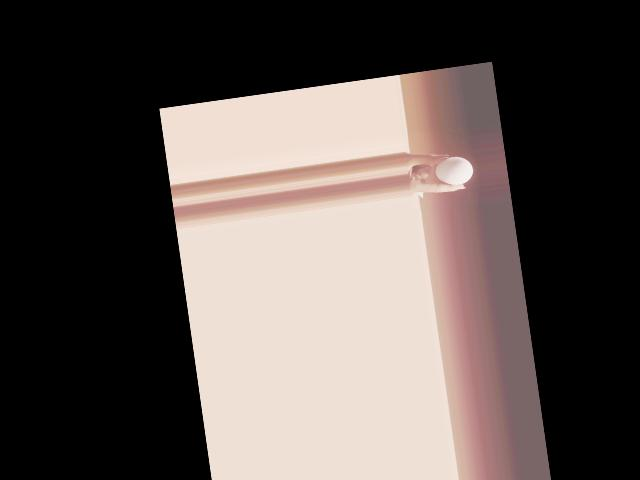egg: (432, 153, 474, 187)
